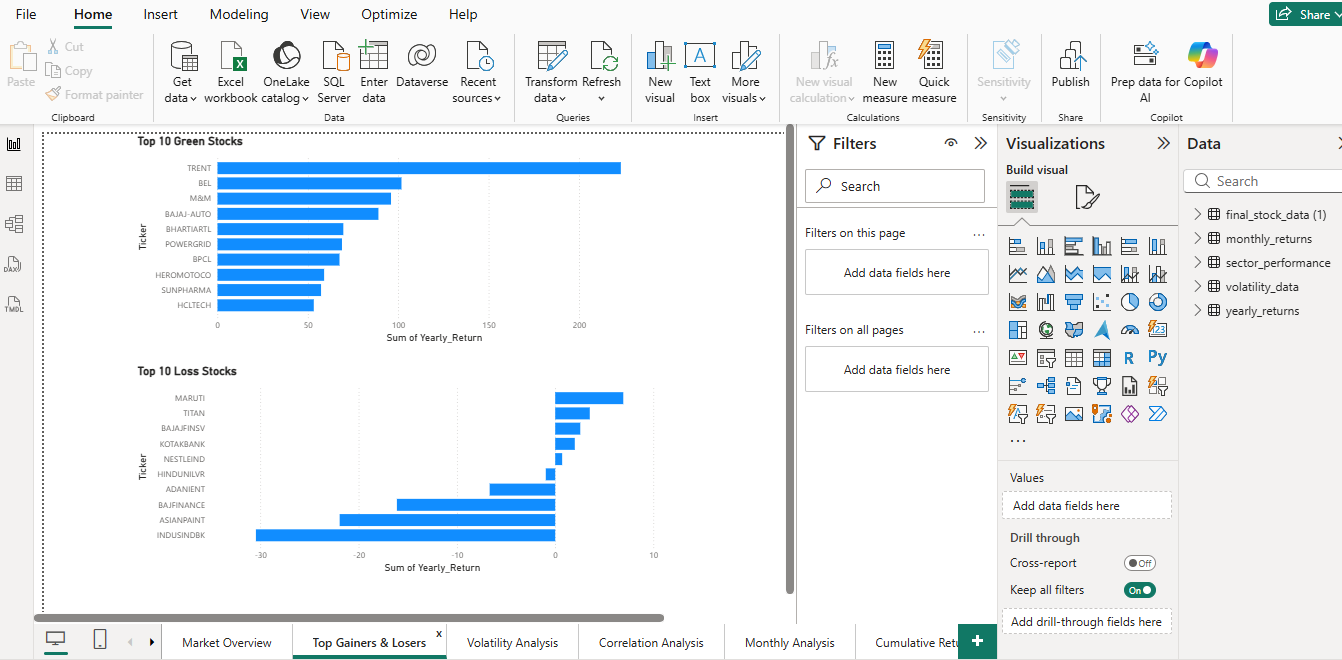

The page's visual inventory and layout, read from the dashboard file:
{"tool":"powerbi","page":{"name":"Top Gainers & Losers","canvas":[1280,720],"ordinal":1},"visuals":[{"type":"clusteredBarChart","title":"Top 10 Green Stocks","fields":{"Category":["yearly_returns.Ticker"],"Y":["Sum(yearly_returns.Yearly_Return)"]},"box":[131.1,0,764.9,308.1],"z":0},{"type":"clusteredBarChart","title":"Top 10 Loss Stocks","fields":{"Category":["yearly_returns.Ticker"],"Y":["Sum(yearly_returns.Yearly_Return)"]},"box":[131.1,333.8,764.9,308.1],"z":1000}]}

Visuals, with their boxes on the page's 1280x720 design canvas (x1, y1, x2, y2). These are canvas units, not pixel positions in the 1342x660 screenshot, which may show the page scaled, cropped or inside an application window:
"Top 10 Green Stocks" clusteredBarChart: BBox(131, 0, 896, 308)
"Top 10 Loss Stocks" clusteredBarChart: BBox(131, 334, 896, 642)
